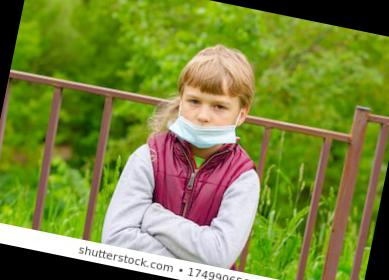mask_weared_incorrect: (174, 91, 237, 152)
